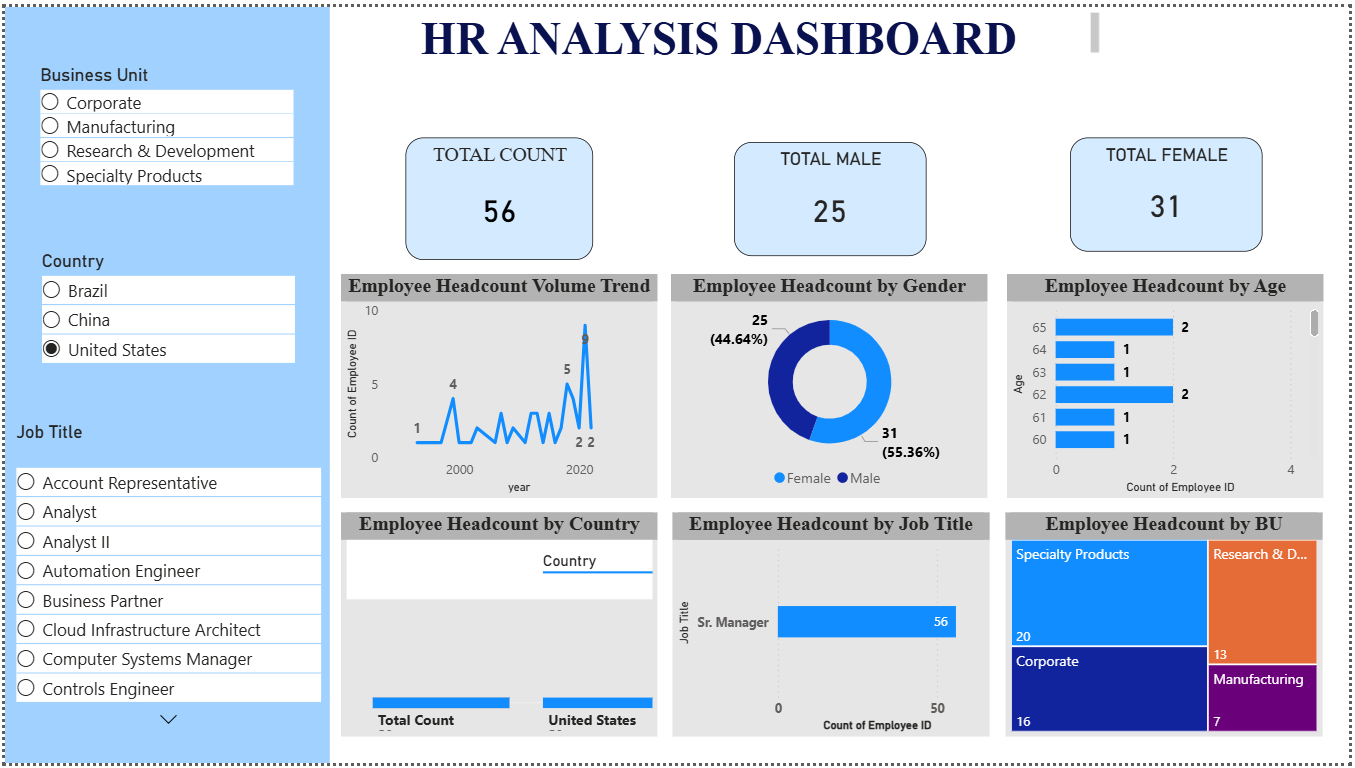

The page's visual inventory and layout, read from the dashboard file:
{"tool":"powerbi","page":{"name":"Page 1","canvas":[1280,720],"ordinal":0},"visuals":[{"type":"card","title":"TOTAL COUNT ","fields":{"Values":["Employee Sample Data xlsx - Employee Data.Total_Count"]},"box":[382.1,124.7,178.4,116.8],"z":0},{"type":"lineChart","title":"Employee Headcount Volume Trend","fields":{"Y":["CountNonNull(Employee Sample Data xlsx - Employee Data.Employee ID)"],"Category":["Employee Sample Data xlsx - Employee Data.Hire_Year"]},"box":[320.5,254.2,301.6,213.2],"z":1000},{"type":"donutChart","title":"Employee Headcount by Gender","fields":{"Category":["Employee Sample Data xlsx - Employee Data.Gender"],"Y":["CountNonNull(Employee Sample Data xlsx - Employee Data.Employee ID)"]},"box":[634.7,254.2,301.6,213.2],"z":2000},{"type":"clusteredBarChart","title":"Employee Headcount by Age","fields":{"Category":["Employee Sample Data xlsx - Employee Data.Age"],"Y":["CountNonNull(Employee Sample Data xlsx - Employee Data.Employee ID)"]},"box":[953.7,254.2,301.6,213.2],"z":3000},{"type":"decompositionTreeVisual","title":"Employee Headcount by Country","fields":{"Analyze":["CountNonNull(Employee Sample Data xlsx - Employee Data.Country)"],"ExplainBy":["Employee Sample Data xlsx - Employee Data.Country"]},"box":[320.5,481.6,301.6,213.2],"z":4000},{"type":"treemap","title":"Employee Headcount by BU","fields":{"Group":["Employee Sample Data xlsx - Employee Data.Business Unit"],"Values":["CountNonNull(Employee Sample Data xlsx - Employee Data.Employee ID)"]},"box":[953.3,481.7,301.7,213.3],"z":5000},{"type":"clusteredBarChart","title":"Employee Headcount by Job Title","fields":{"Category":["Employee Sample Data xlsx - Employee Data.Job Title"],"Y":["CountNonNull(Employee Sample Data xlsx - Employee Data.Employee ID)"]},"box":[635,481.7,301.7,213.3],"z":6000},{"type":"card","title":"TOTAL MALE","fields":{"Values":["Employee Sample Data xlsx - Employee Data.Total_Male_Count"]},"box":[694.7,127.9,183.2,108.9],"z":7000},{"type":"card","title":"TOTAL FEMALE","fields":{"Values":["Employee Sample Data xlsx - Employee Data.Total_Female_Count"]},"box":[1013.7,124.7,183.2,108.9],"z":8000},{"type":"textbox","box":[320,0,726.7,53.3],"z":9000},{"type":"listSlicer","fields":{"Values":["Employee Sample Data xlsx - Employee Data.Business Unit"]},"box":[15.8,104.2,224.2,300],"z":10000},{"type":"textbox","box":[0,0,309.5,720],"z":10001},{"type":"listSlicer","fields":{"Values":["Employee Sample Data xlsx - Employee Data.Business Unit"]},"box":[28.4,53.7,251.1,217.9],"z":10002},{"type":"listSlicer","fields":{"Values":["Employee Sample Data xlsx - Employee Data.Job Title"]},"box":[6.3,394.7,300,300],"z":10003},{"type":"listSlicer","fields":{"Values":["Employee Sample Data xlsx - Employee Data.Country"]},"box":[30,232.1,251.1,254.2],"z":10004}]}

Visuals, with their boxes in screenshot pixels (x1, y1, x2, y2), scaled from the page's 1280x720 canvas onto the 1355x768 screenshot:
"TOTAL COUNT " card: [left=404, top=133, right=593, bottom=258]
"Employee Headcount Volume Trend" lineChart: [left=339, top=271, right=659, bottom=499]
"Employee Headcount by Gender" donutChart: [left=672, top=271, right=991, bottom=499]
"Employee Headcount by Age" clusteredBarChart: [left=1010, top=271, right=1329, bottom=499]
"Employee Headcount by Country" decompositionTreeVisual: [left=339, top=514, right=659, bottom=741]
"Employee Headcount by BU" treemap: [left=1009, top=514, right=1329, bottom=741]
"Employee Headcount by Job Title" clusteredBarChart: [left=672, top=514, right=992, bottom=741]
"TOTAL MALE" card: [left=735, top=136, right=929, bottom=253]
"TOTAL FEMALE" card: [left=1073, top=133, right=1267, bottom=249]
textbox: [left=339, top=0, right=1108, bottom=57]
listSlicer - Employee Sample Data xlsx - Employee Data.Business Unit: [left=17, top=111, right=254, bottom=431]
textbox: [left=0, top=0, right=328, bottom=767]
listSlicer - Employee Sample Data xlsx - Employee Data.Business Unit: [left=30, top=57, right=296, bottom=290]
listSlicer - Employee Sample Data xlsx - Employee Data.Job Title: [left=7, top=421, right=324, bottom=741]
listSlicer - Employee Sample Data xlsx - Employee Data.Country: [left=32, top=248, right=298, bottom=519]
